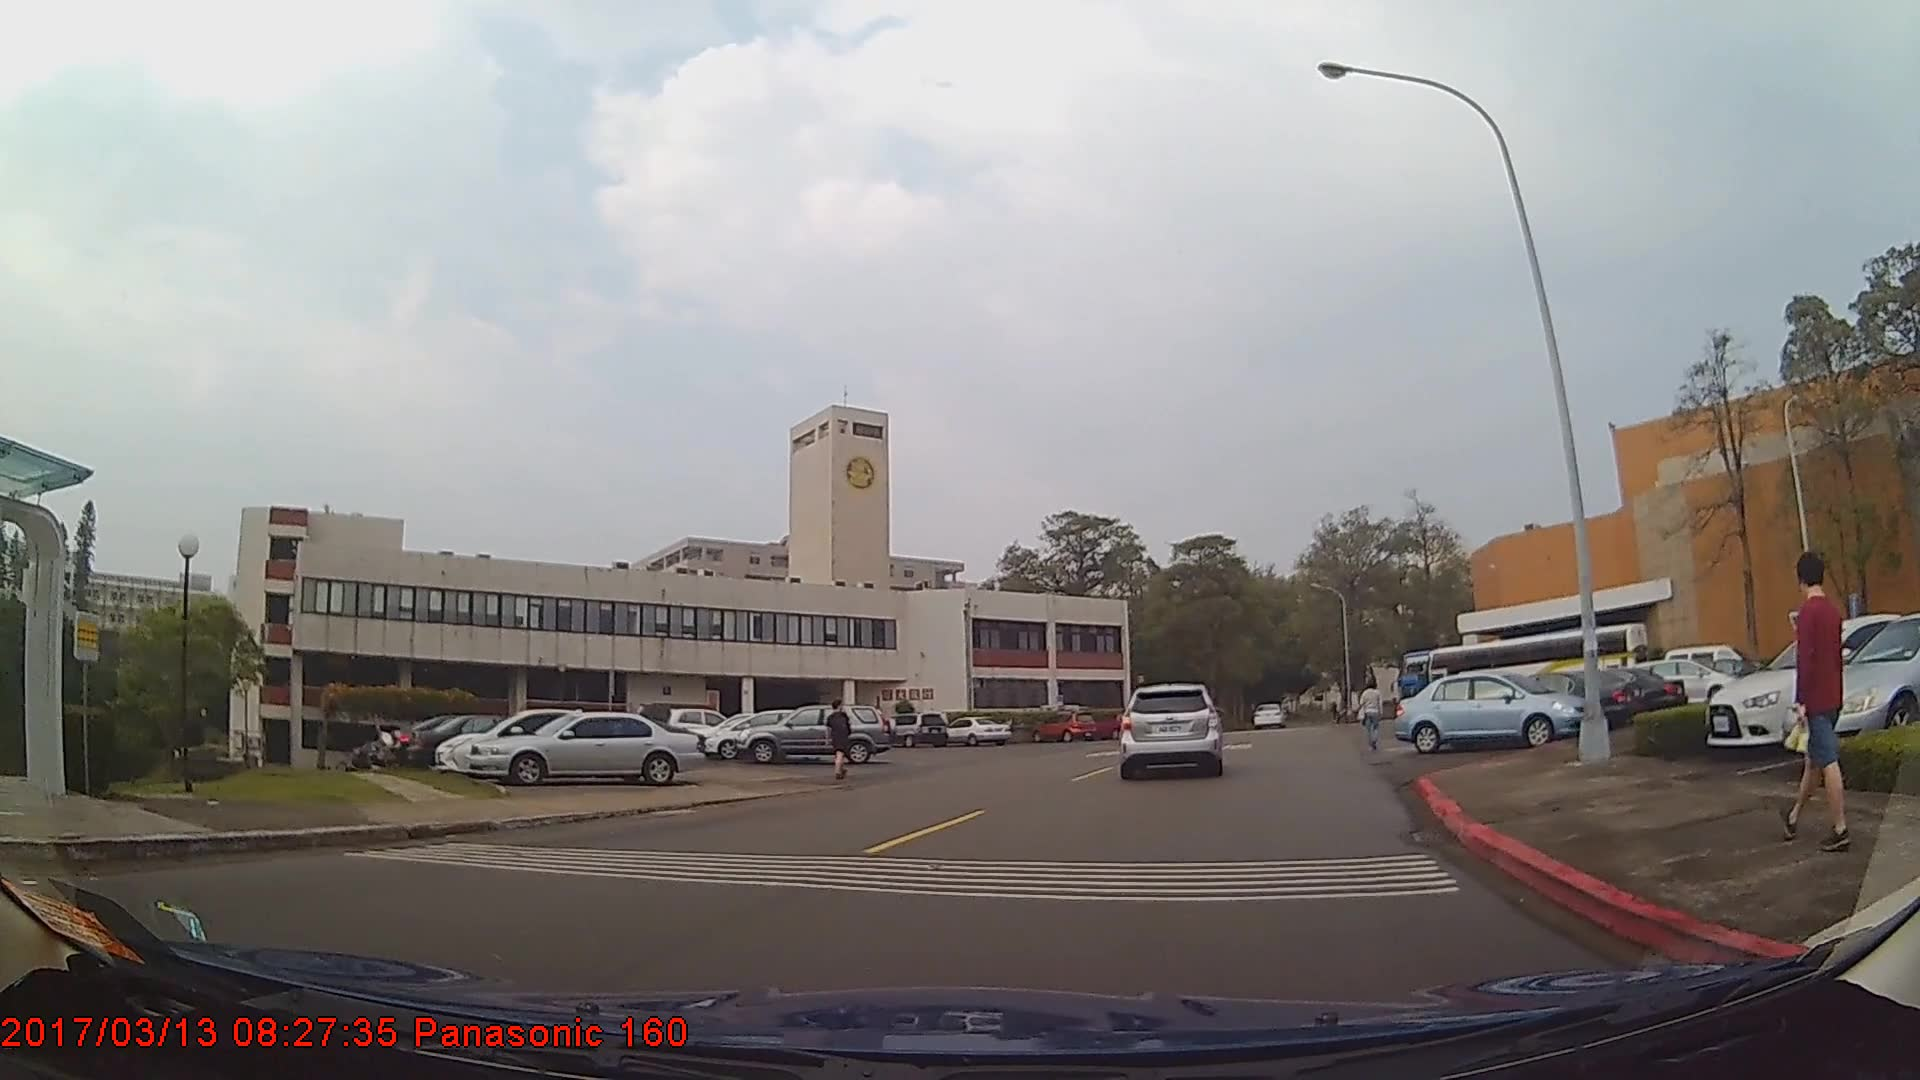pedestrian: (1781, 549, 1852, 845), (818, 686, 861, 790), (1357, 678, 1386, 748)
vehicle: (1705, 612, 1920, 748), (1782, 612, 1920, 760), (464, 710, 703, 785), (1389, 670, 1588, 752), (430, 704, 648, 775), (1453, 669, 1642, 729), (1120, 679, 1222, 779), (403, 709, 567, 769), (739, 703, 896, 764), (1533, 665, 1685, 717), (702, 706, 832, 758), (884, 712, 949, 748), (1030, 709, 1097, 743), (943, 715, 1011, 746), (1250, 699, 1283, 729)
